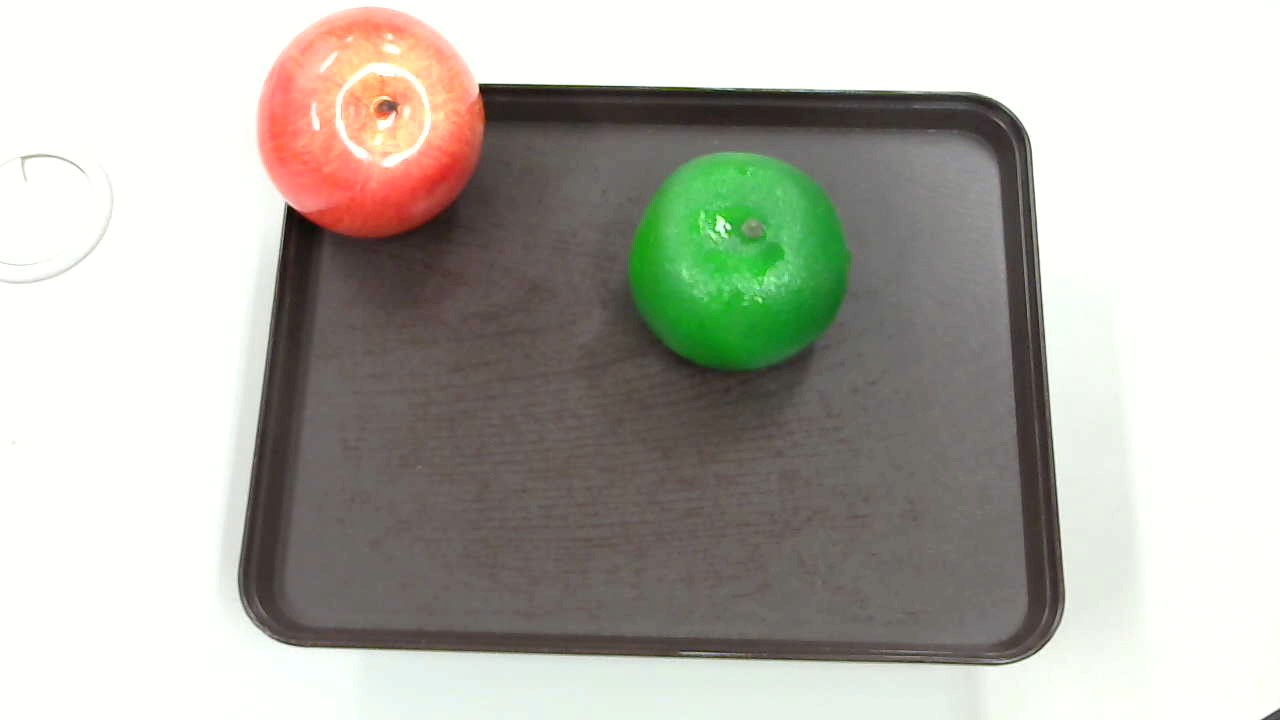green orange: (628, 153, 849, 379)
red apple: (257, 3, 483, 246)
